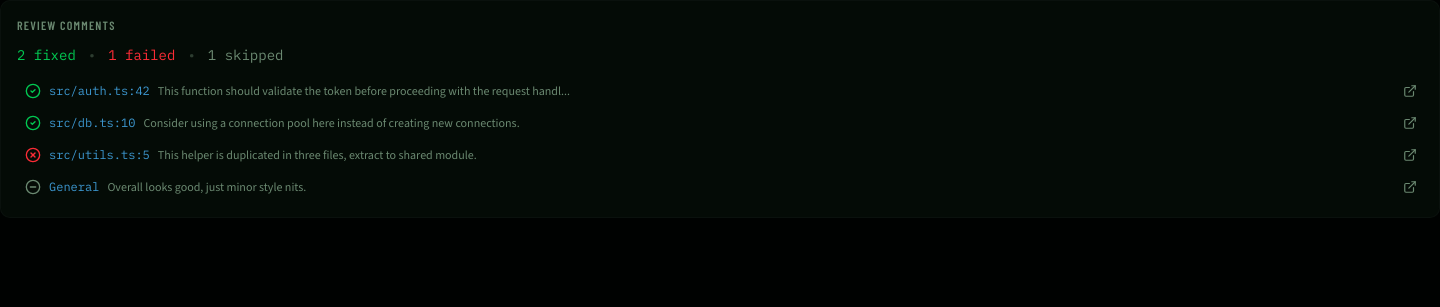
Test: PRCommentSection › renders status_reason text when a comment row is expanded
The width and height of the screenshot is (1440, 307).
Click the button that starts with "src/utils.ts:5" at (99, 154), box [17,141,1389,169]
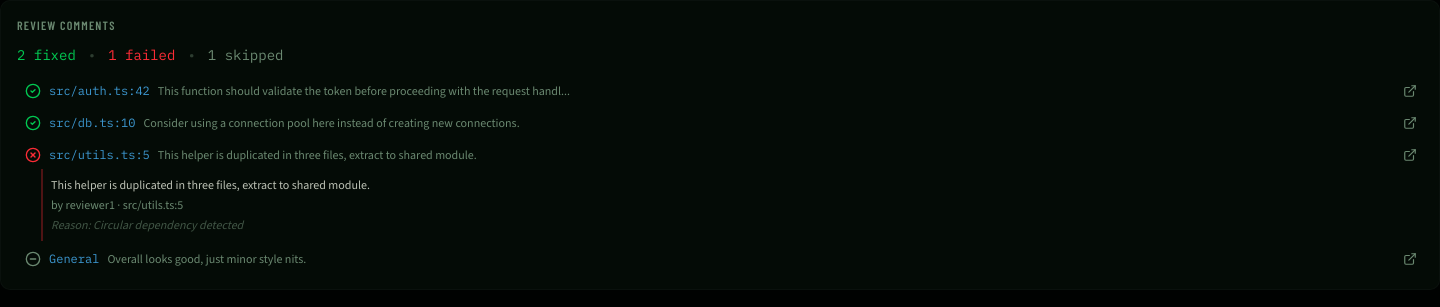
Result: the text "Reason: Circular dependency detected" is shown at [51,217,243,233]
